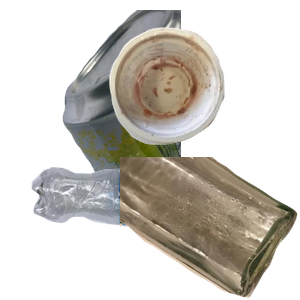glass: (120, 157, 300, 300)
metal: (60, 10, 300, 190)
plastic: (29, 165, 227, 300)
trash: (107, 25, 300, 162)
